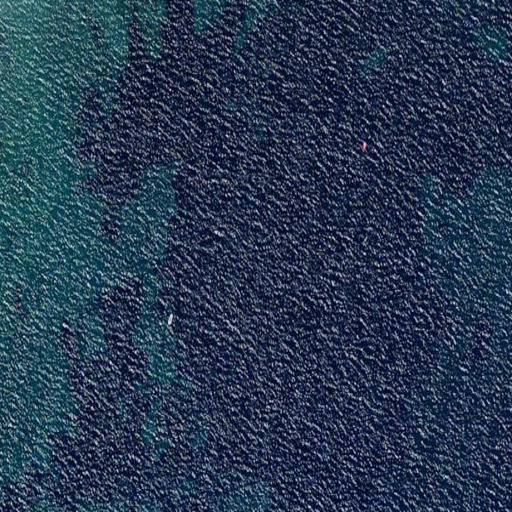ship: (167, 312, 175, 328)
